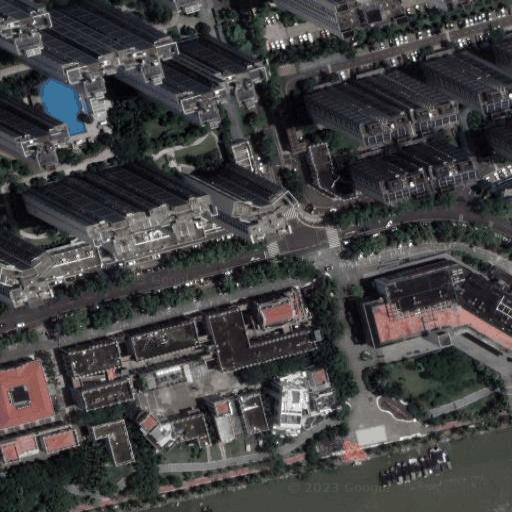building: (377, 260, 512, 333), (358, 294, 512, 354), (24, 159, 154, 229), (197, 306, 312, 373), (179, 159, 244, 213), (140, 408, 213, 453), (308, 143, 357, 201), (120, 319, 191, 359), (225, 141, 258, 218), (130, 356, 198, 392), (148, 37, 198, 83), (424, 49, 481, 88), (92, 419, 136, 468), (0, 15, 43, 64), (59, 340, 114, 377), (353, 149, 406, 185), (72, 376, 126, 411), (401, 137, 455, 172), (310, 79, 360, 116), (356, 68, 407, 103), (104, 51, 150, 89), (214, 398, 248, 441), (238, 392, 271, 436), (241, 294, 281, 330), (28, 420, 69, 450), (269, 381, 293, 422), (351, 421, 386, 446), (302, 368, 328, 394), (7, 430, 33, 455), (273, 290, 293, 318), (308, 388, 332, 411), (210, 401, 231, 418), (238, 313, 252, 331), (272, 322, 285, 337), (68, 374, 79, 389), (193, 352, 208, 361), (112, 354, 127, 363), (120, 373, 132, 383), (184, 315, 198, 323), (189, 334, 203, 342), (229, 303, 242, 311)
